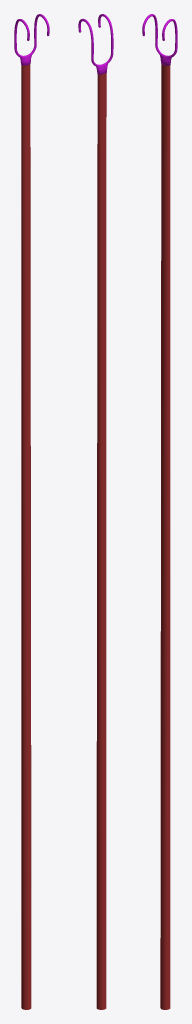
File: A_AH_Grapple_001.fbx
The picture shows the model from 3 angles, left to right: view 1: azimuth 30°, elevation 25°; view 2: azimuth 210°, elevation 25°; view 3: azimuth 330°, elevation 25°; orthographic projection.
Visible parts, largest first — view 1: Grapple; view 2: Grapple; view 3: Grapple.
Part boxes in pixels (x1,y1,x2,y2): Grapple: (14, 14, 49, 1009); Grapple: (78, 14, 113, 1009); Grapple: (142, 14, 177, 1009).
Bounding box in the file's own units: 3.55 × 153 × 4.22.
